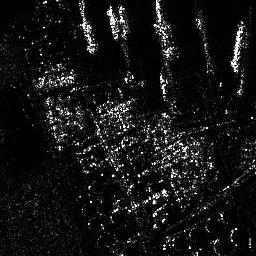ship: (158, 17, 181, 59), (231, 23, 244, 73), (81, 19, 98, 53), (106, 7, 119, 39)
